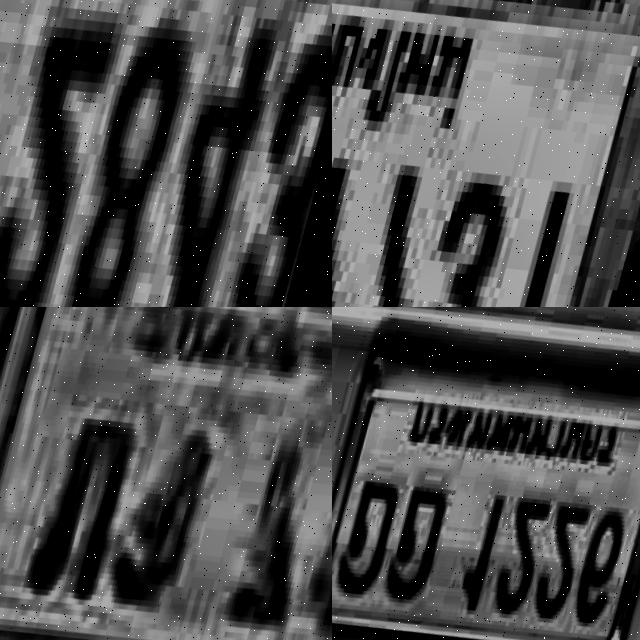license-plate: (0, 307, 332, 640), (0, 0, 332, 307), (332, 313, 640, 640), (332, 0, 640, 307)
